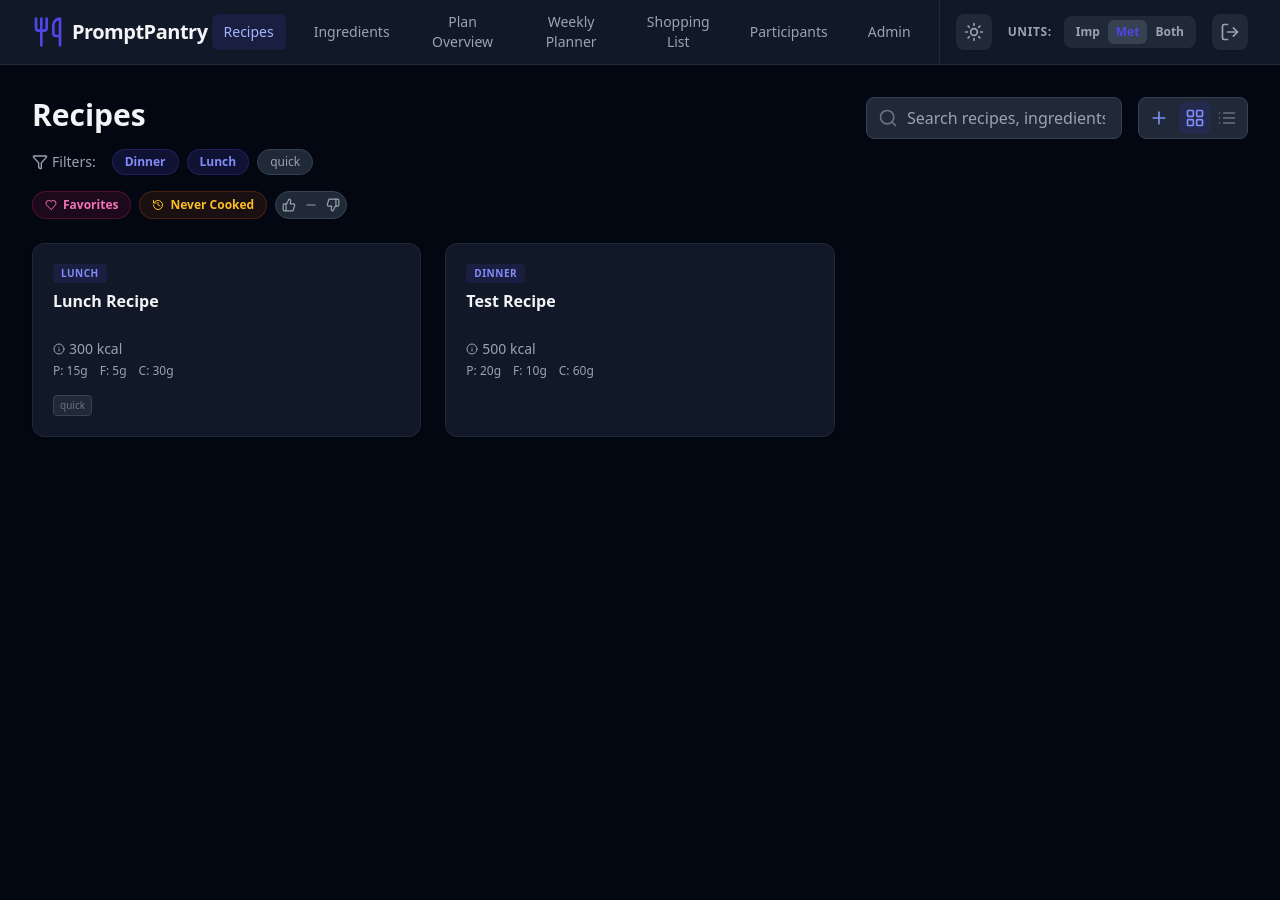
Test: App › can open add recipe modal
The width and height of the screenshot is (1280, 900).
Click the button titled "Add Recipe" at (1159, 118), box [1143,102,1175,134]
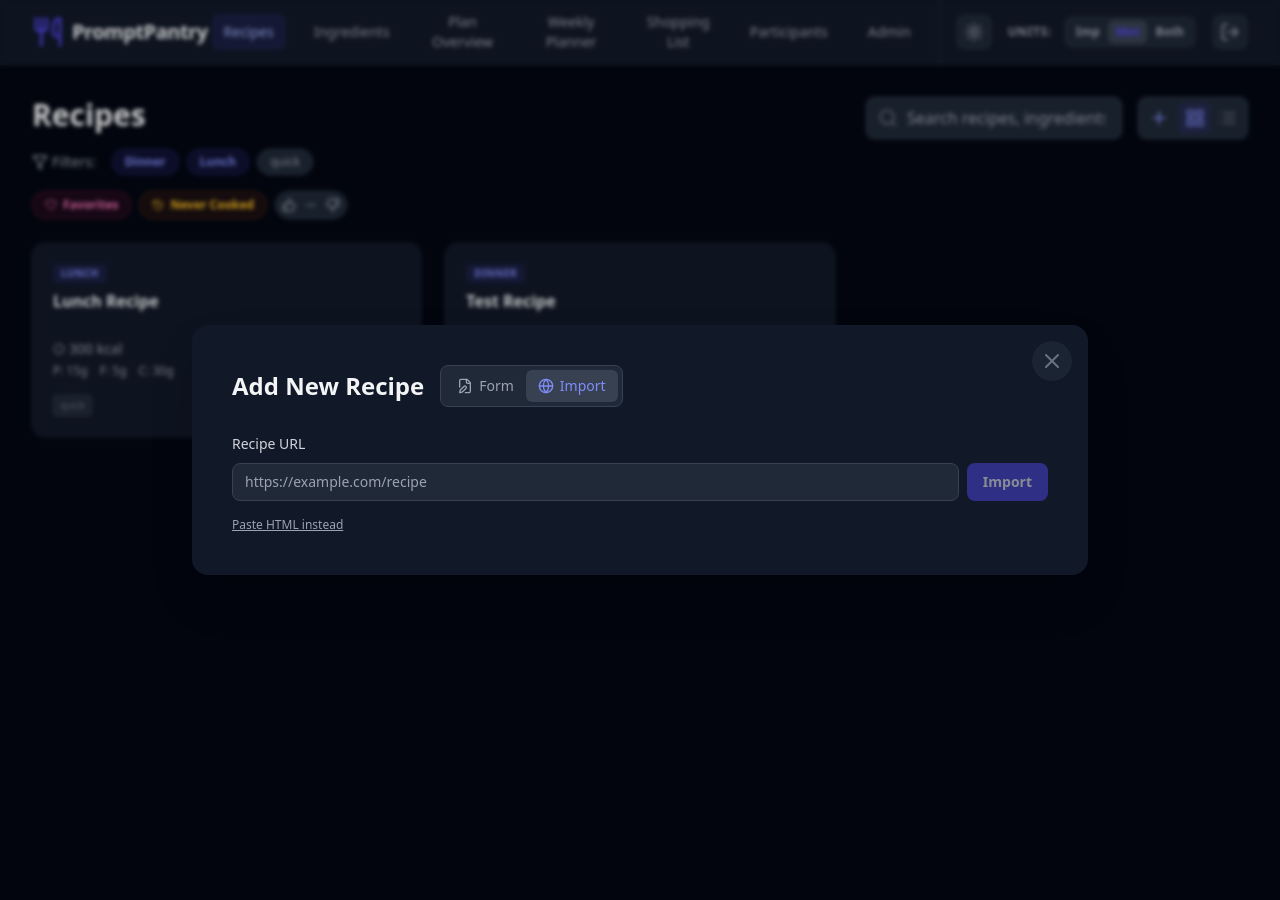
Expected: the heading "Add New Recipe" is shown, [232,370,424,402]
